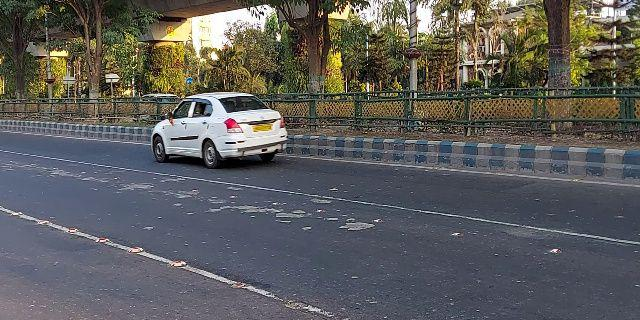Car: (148, 85, 289, 168)
